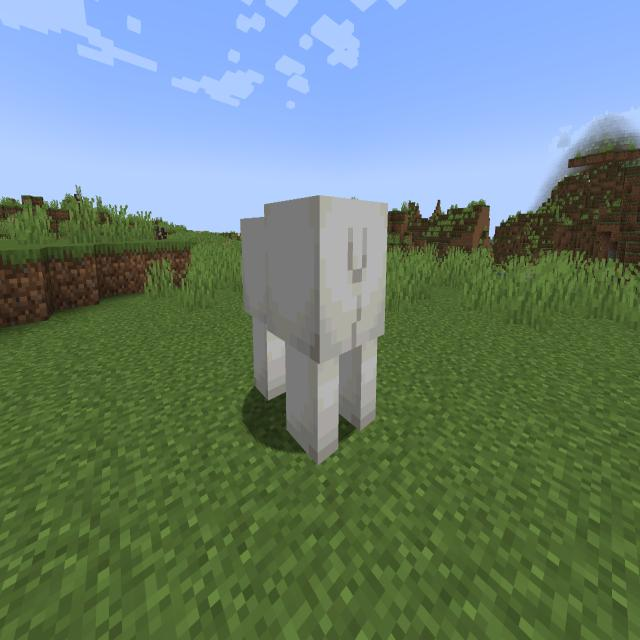Polar Bear: (233, 182, 400, 478)
